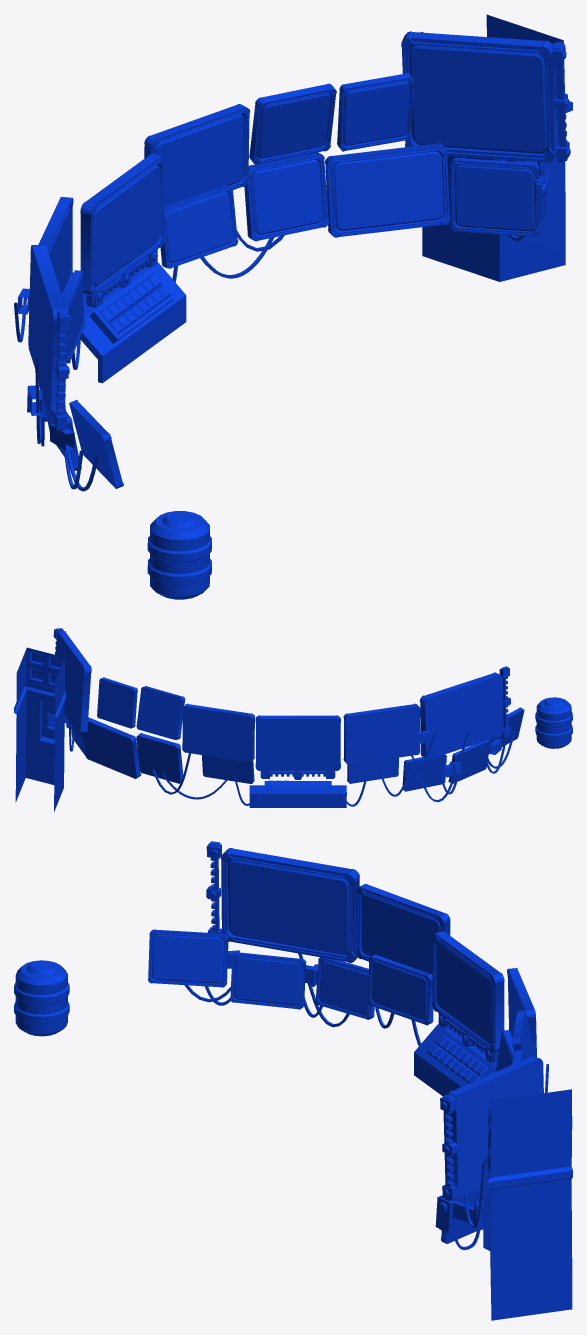
Rendered from FRONT_Ordinateur.fbx.
The picture shows the model from 3 angles, top to bottom: view 1: azimuth 30°, elevation 25°; view 2: azimuth 150°, elevation 25°; view 3: azimuth 270°, elevation 25°; orthographic projection. The views are drawn at different scales.
Visible parts, largest first — view 1: FRONT_Ordinateur; view 2: FRONT_Ordinateur; view 3: FRONT_Ordinateur.
Part boxes in pixels (x1,y1,x2,y2): FRONT_Ordinateur: (14, 14, 572, 599); FRONT_Ordinateur: (14, 628, 572, 811); FRONT_Ordinateur: (14, 841, 572, 1320).
Size of the model in its own units: 1503 by 526 by 1248.
